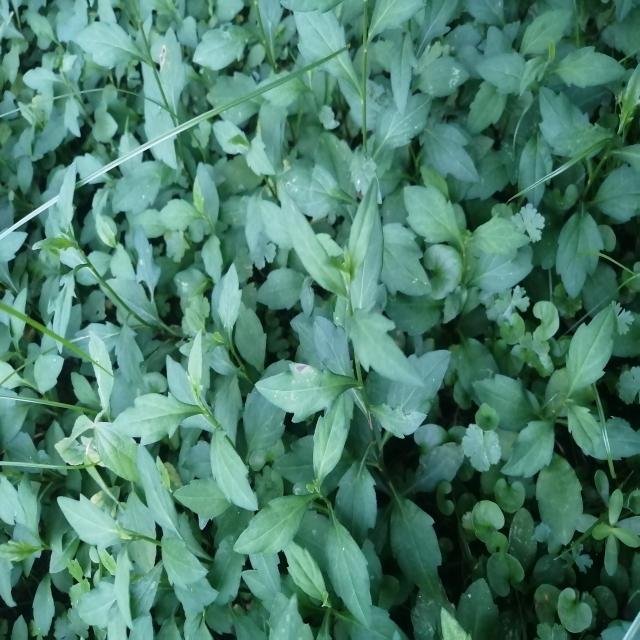Indian aster: (270, 176, 440, 408), (238, 404, 406, 604), (135, 263, 252, 546)
